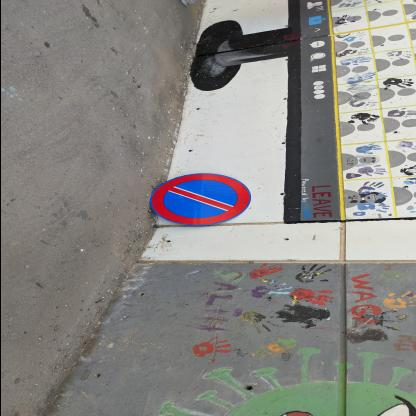No Waiting: (150, 174, 252, 228)
